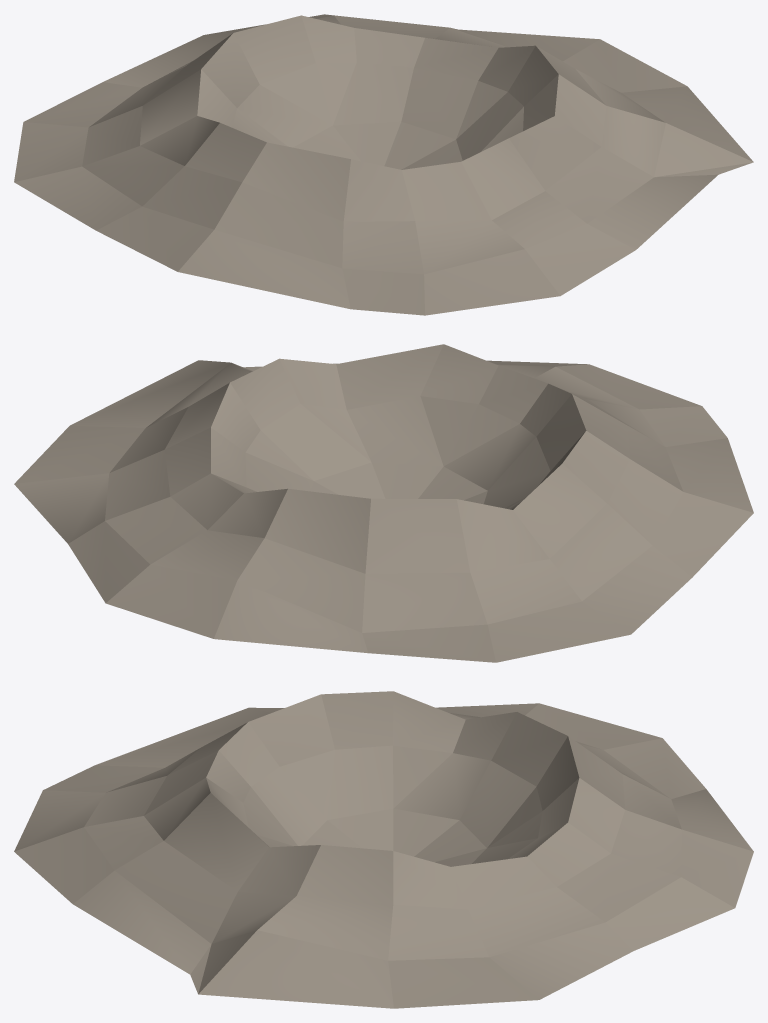
Rendered from crater_02.glb.
3 renders of one model, top to bottom at view 1: azimuth 30°, elevation 25°; view 2: azimuth 150°, elevation 25°; view 3: azimuth 270°, elevation 25°, orthographic. The views are drawn at different scales.
Parts seen in each view (by area): view 1: crater_02; view 2: crater_02; view 3: crater_02.
Part boxes in pixels (bbox=[...]): crater_02: bbox=[14, 14, 753, 315]; crater_02: bbox=[14, 344, 753, 662]; crater_02: bbox=[14, 691, 753, 1008].
Size of the model in its own units: 10.91 by 1.78 by 11.17.
Materials: 1 (1 with a texture image).
